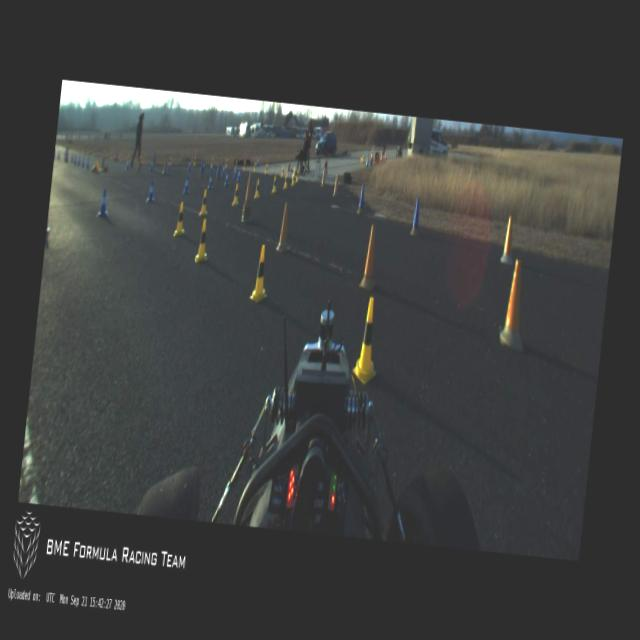blue_cone: (96, 186, 109, 218), (182, 174, 190, 196), (223, 170, 230, 187), (208, 171, 214, 190), (236, 166, 242, 182), (220, 162, 226, 175), (186, 158, 192, 171), (232, 165, 237, 179), (256, 156, 260, 164)
yellow_cone: (349, 294, 384, 388), (248, 241, 271, 304), (193, 218, 210, 264), (173, 203, 187, 238), (198, 187, 209, 215), (146, 178, 156, 203), (231, 182, 240, 208), (253, 180, 260, 199), (282, 170, 288, 190), (271, 174, 277, 193), (294, 169, 300, 185), (290, 172, 296, 186), (291, 166, 296, 179), (264, 162, 268, 175), (280, 166, 284, 178), (193, 155, 196, 166), (243, 160, 246, 170), (253, 162, 256, 172)
